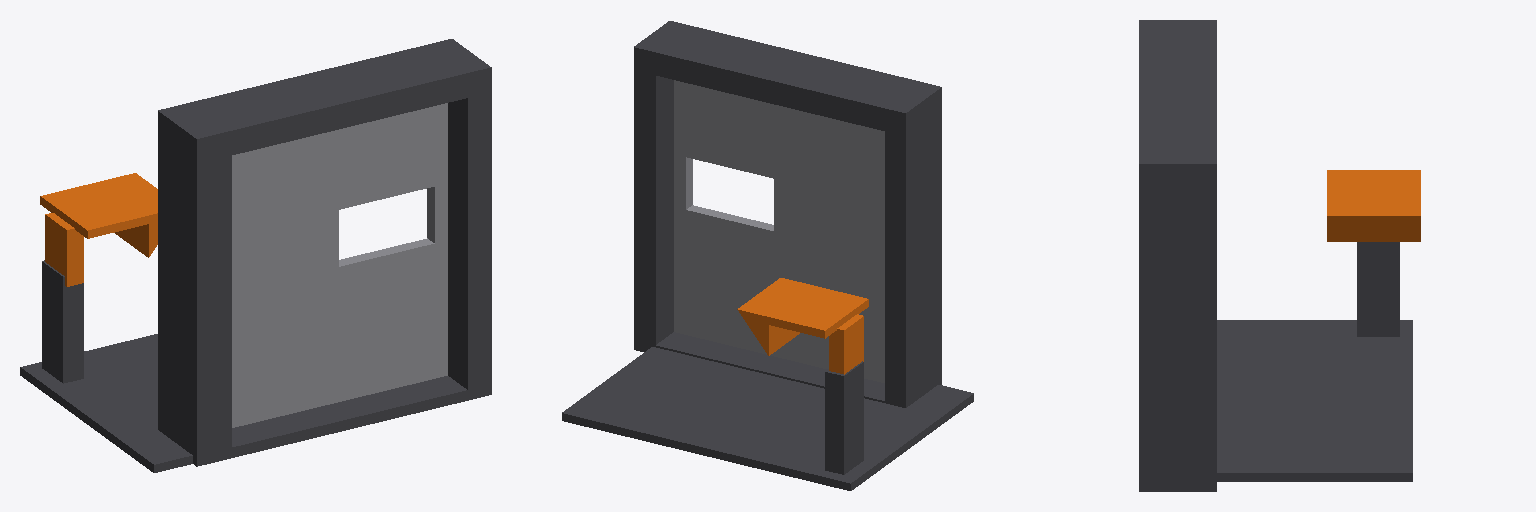
robot.urdf — cutaway_door:
<?xml version="1.0"?>
<robot name="cutaway_door">
  <!-- SI units; root at the hinge foot. Door opens +Z, from +X toward +Y.
       Near 90 degrees the lower window lip cams the beveled spring catch up.
       After passing its vertical retaining face, the spring drops it into
       the window and the closing spring seats the door against the catch.
       Keep separate box colliders: a single convex hull would fill the hole.
       Spring drives are configured in Isaac Lab, not portable URDF dynamics.
       Required: fixed base, self collision ON, no fixed-joint merging. -->
  <material name="frame_grey"><color rgba="0.32 0.32 0.34 1"/></material>
  <material name="panel_grey"><color rgba="0.60 0.60 0.62 1"/></material>
  <material name="catch_orange"><color rgba="0.90 0.48 0.12 1"/></material>
  <link name="frame">
    <inertial><origin xyz="0 0 0.10"/><mass value="3"/><inertia ixx="0.06" iyy="0.06" izz="0.06" ixy="0" ixz="0" iyz="0"/></inertial>
    <visual><origin xyz="0.12 0.13 0.006"/><geometry><box size="0.46 0.34 0.012"/></geometry><material name="frame_grey"/></visual>
    <collision><origin xyz="0.12 0.13 0.006"/><geometry><box size="0.46 0.34 0.012"/></geometry></collision>
    <!-- Full, 10 cm deep surround. Top, sill and free jamb leave 5 mm
         running gaps: too narrow to hook a finger around the closed panel.
         The hinge jamb has a rear rebate to block rear finger access while
         relieving the opening side for the panel's entire 0-96 degree sweep. -->
    <visual name="frame_header"><origin xyz="0.1635 0 0.4425"/><geometry><box size="0.433 0.100 0.035"/></geometry><material name="frame_grey"/></visual>
    <collision name="frame_header"><origin xyz="0.1635 0 0.4425"/><geometry><box size="0.433 0.100 0.035"/></geometry></collision>
    <visual name="frame_sill"><origin xyz="0.1635 0 0.0075"/><geometry><box size="0.433 0.100 0.015"/></geometry><material name="frame_grey"/></visual>
    <collision name="frame_sill"><origin xyz="0.1635 0 0.0075"/><geometry><box size="0.433 0.100 0.015"/></geometry></collision>
    <visual name="frame_free_jamb"><origin xyz="0.3625 0 0.22"/><geometry><box size="0.035 0.100 0.410"/></geometry><material name="frame_grey"/></visual>
    <collision name="frame_free_jamb"><origin xyz="0.3625 0 0.22"/><geometry><box size="0.035 0.100 0.410"/></geometry></collision>
    <visual name="frame_hinge_jamb"><origin xyz="-0.0365 0 0.22"/><geometry><box size="0.033 0.100 0.410"/></geometry><material name="frame_grey"/></visual>
    <collision name="frame_hinge_jamb"><origin xyz="-0.0365 0 0.22"/><geometry><box size="0.033 0.100 0.410"/></geometry></collision>
    <visual name="frame_hinge_rebate"><origin xyz="-0.0105 -0.032 0.22"/><geometry><box size="0.019 0.036 0.410"/></geometry><material name="frame_grey"/></visual>
    <collision name="frame_hinge_rebate"><origin xyz="-0.0105 -0.032 0.22"/><geometry><box size="0.019 0.036 0.410"/></geometry></collision>
    <!-- Latch support is outside the door's sweep through 96 degrees. -->
    <visual><origin xyz="-0.074 0.255 0.088"/><geometry><box size="0.030 0.055 0.150"/></geometry><material name="frame_grey"/></visual>
    <collision><origin xyz="-0.074 0.255 0.088"/><geometry><box size="0.030 0.055 0.150"/></geometry></collision>
  </link>
  <link name="door">
    <inertial><origin xyz="0.160 0 0.214"/><mass value="0.65"/><inertia ixx="0.010" iyy="0.016" izz="0.006" ixy="0" ixz="0" iyz="0"/></inertial>
    <!-- Four boxes form a REAL 14 x 8 cm window: x=[.18,.32], z=[.21,.29].
         Panel spans x=[.004,.34], z=[.020,.42], thickness 18 mm. -->
    <visual><origin xyz="0.092 0 0.22"/><geometry><box size="0.176 0.018 0.40"/></geometry><material name="panel_grey"/></visual>
    <collision><origin xyz="0.092 0 0.22"/><geometry><box size="0.176 0.018 0.40"/></geometry></collision>
    <visual><origin xyz="0.260 0 0.115"/><geometry><box size="0.16 0.018 0.19"/></geometry><material name="panel_grey"/></visual>
    <collision><origin xyz="0.260 0 0.115"/><geometry><box size="0.16 0.018 0.19"/></geometry></collision>
    <visual><origin xyz="0.260 0 0.355"/><geometry><box size="0.16 0.018 0.13"/></geometry><material name="panel_grey"/></visual>
    <collision><origin xyz="0.260 0 0.355"/><geometry><box size="0.16 0.018 0.13"/></geometry></collision>
    <visual><origin xyz="0.330 0 0.25"/><geometry><box size="0.020 0.018 0.08"/></geometry><material name="panel_grey"/></visual>
    <collision><origin xyz="0.330 0 0.25"/><geometry><box size="0.020 0.018 0.08"/></geometry></collision>
  </link>
  <joint name="door_hinge" type="revolute">
    <parent link="frame"/><child link="door"/><origin xyz="0 0 0"/><axis xyz="0 0 1"/>
    <limit lower="0" upper="1.675516082" effort="3" velocity="2"/>
    <dynamics damping="0.12" friction="0.0"/>
  </joint>
  <link name="latch">
    <inertial><origin xyz="-0.005 0.25 0.215"/><mass value="0.06"/><inertia ixx="0.00009" iyy="0.00010" izz="0.00015" ixy="0" ixz="0" iyz="0"/></inertial>
    <!-- 12 x 6 cm retaining face, slightly smaller than the 14 x 8 cm hole.
         The opening-side bevel rises toward +X; the approaching door cams
         the catch up ~35 mm, then its spring returns it behind the lower lip.
         The vertical -X face resists closing, without a software joint lock.
         Mesh is a local, source-authored convex triangular prism (SI units). -->
    <visual name="latch_bevel"><origin xyz="0.015 0.19 0.18"/><geometry><mesh filename="latch_wedge.obj"/></geometry><material name="catch_orange"/></visual>
    <collision name="latch_bevel"><origin xyz="0.015 0.19 0.18"/><geometry><mesh filename="latch_wedge.obj"/></geometry></collision>
    <visual name="latch_bridge"><origin xyz="-0.030 0.25 0.234"/><geometry><box size="0.090 0.120 0.012"/></geometry><material name="catch_orange"/></visual>
    <collision name="latch_bridge"><origin xyz="-0.030 0.25 0.234"/><geometry><box size="0.090 0.120 0.012"/></geometry></collision>
    <visual><origin xyz="-0.074 0.25 0.190"/><geometry><box size="0.025 0.055 0.080"/></geometry><material name="catch_orange"/></visual>
    <collision><origin xyz="-0.074 0.25 0.190"/><geometry><box size="0.025 0.055 0.080"/></geometry></collision>
  </link>
  <joint name="latch_slide" type="prismatic">
    <parent link="frame"/><child link="latch"/><origin xyz="0 0 0"/><axis xyz="0 0 1"/>
    <limit lower="0" upper="0.055" effort="5" velocity="0.5"/>
    <dynamics damping="1.0" friction="0.0"/>
  </joint>
</robot>

--- Facts derived from the render (not from the file) ---
3 views of the same robot in one strip: view 1: azimuth 30°, elevation 25°; view 2: azimuth 150°, elevation 25°; view 3: azimuth 270°, elevation 25° (orthographic).
Model cutaway_door with 3 links and 2 joints (1 revolute, 1 prismatic), rooted at frame, posed all joints at 0.
Visible links, largest first — view 1: frame, door, latch; view 2: frame, door, latch; view 3: frame, latch.
Boxes of the visible links, bbox=[...] form: frame: bbox=[20, 39, 491, 472]; door: bbox=[232, 103, 447, 427]; latch: bbox=[40, 173, 157, 286]; frame: bbox=[562, 21, 973, 490]; door: bbox=[674, 80, 884, 382]; latch: bbox=[737, 278, 868, 374]; frame: bbox=[1139, 20, 1412, 491]; latch: bbox=[1327, 170, 1420, 241].
Size in the robot's own frame: 0.49 by 0.36 by 0.46 metres.
Meshes: 1 distinct files referenced, 1 mesh visuals loaded (1 OBJ).
